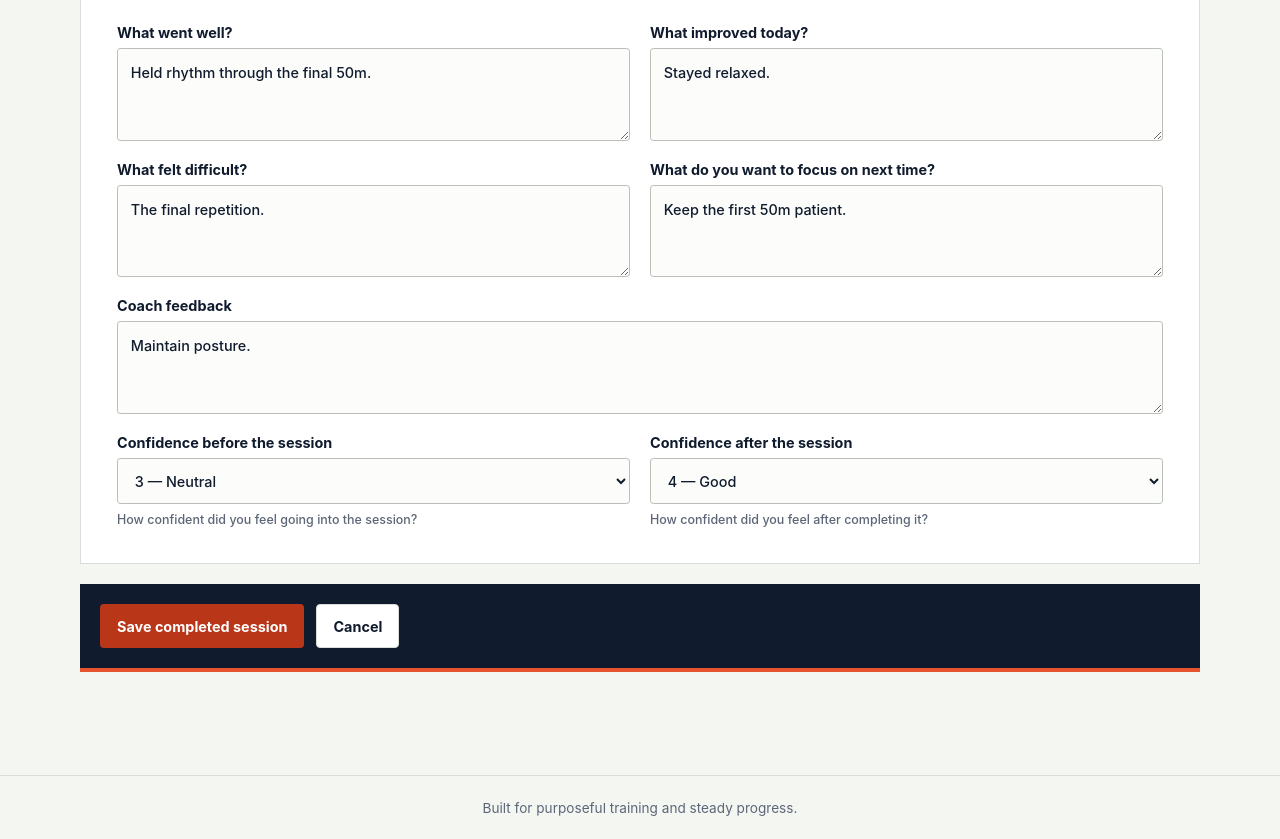
session completion and reflection › announces a TrackRank increase
(page scrolled)
Click the button "Save completed session".
click(202, 626)  # box [100,604,304,648]
(page scrolled)
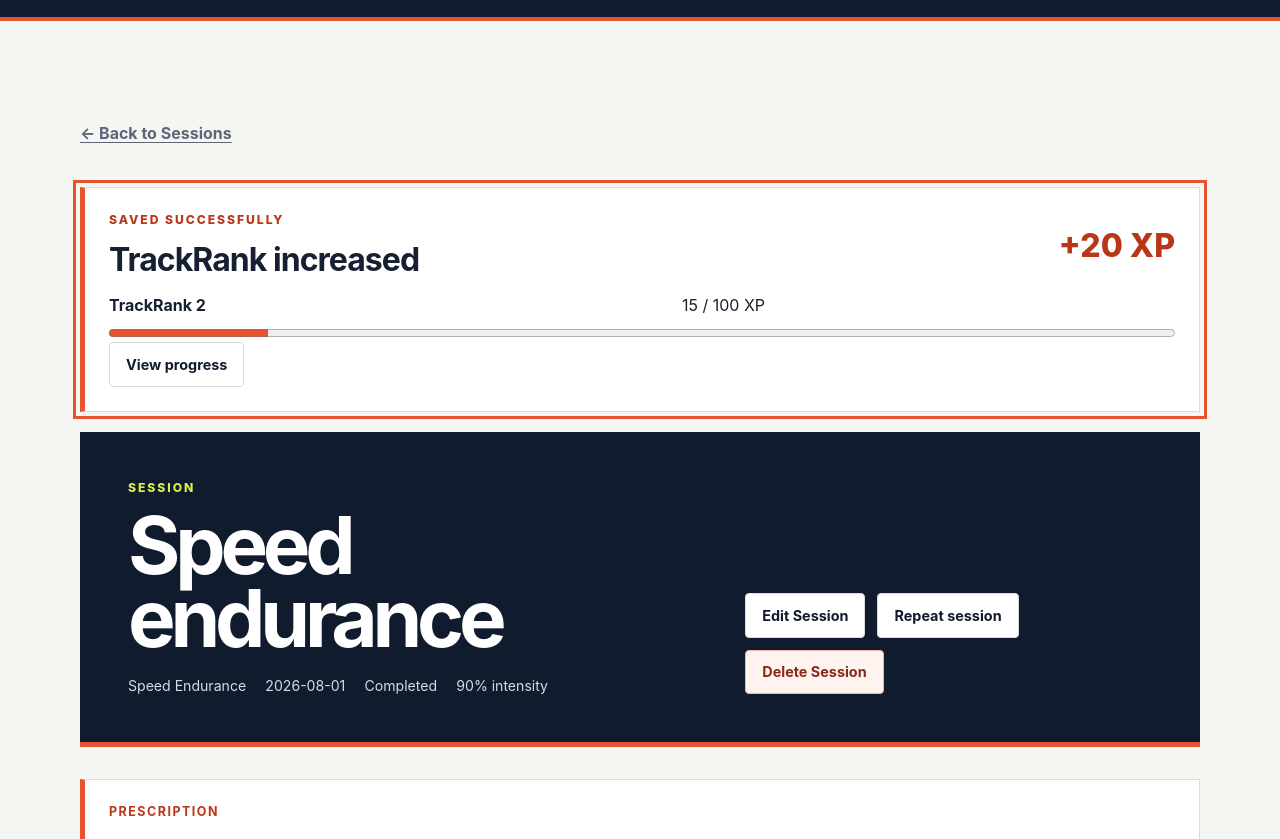
expect the heading "TrackRank increased" is shown: met, box [109,240,419,279]
expect the text "TrackRank 2" is shown: met, box [109,295,206,315]
